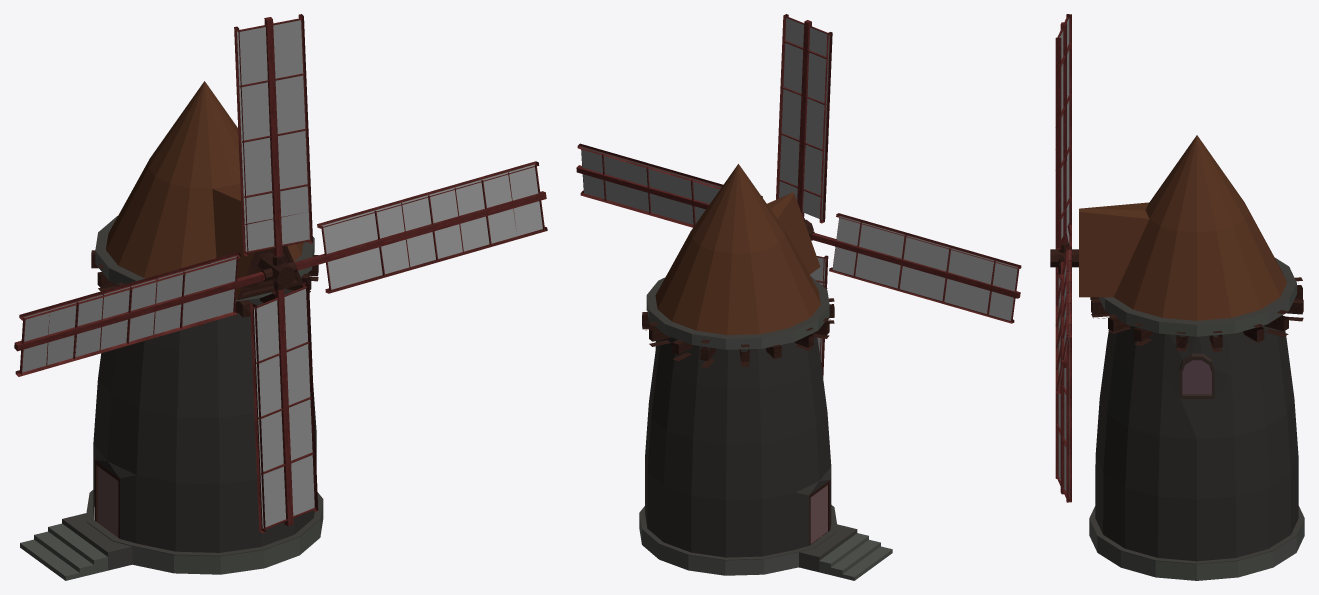
The model's file is windmill.zfix-v14.lod1.glb.
3 views of the same model, side by side, from view 1: azimuth 30°, elevation 25°; view 2: azimuth 150°, elevation 25°; view 3: azimuth 270°, elevation 25° (orthographic). The views are drawn at different scales.
Parts seen in each view (by area): view 1: Object_4, Object_35, Object_20; view 2: Object_4, Object_35, Object_20; view 3: Object_4, Object_35, Object_20.
Boxes of the visible parts, box(x1,y1,x2,y2) form: Object_4: box(20, 20, 542, 580); Object_35: box(14, 14, 547, 532); Object_20: box(91, 246, 318, 538); Object_4: box(581, 18, 1017, 580); Object_35: box(576, 14, 1021, 377); Object_20: box(642, 218, 834, 545); Object_4: box(1058, 18, 1304, 580); Object_35: box(1055, 14, 1071, 502); Object_20: box(1050, 242, 1303, 351).
Size of the model in its own units: 11.81 by 12 by 5.46.
Materials: 3 (2 with a texture image).
